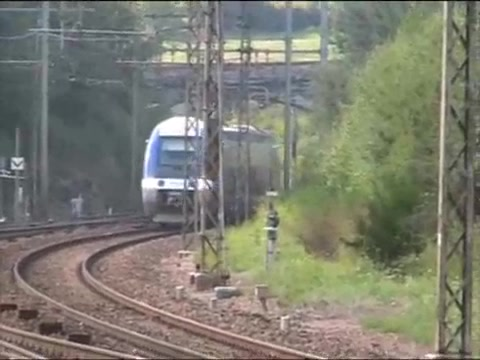train: (140, 117, 278, 232)
